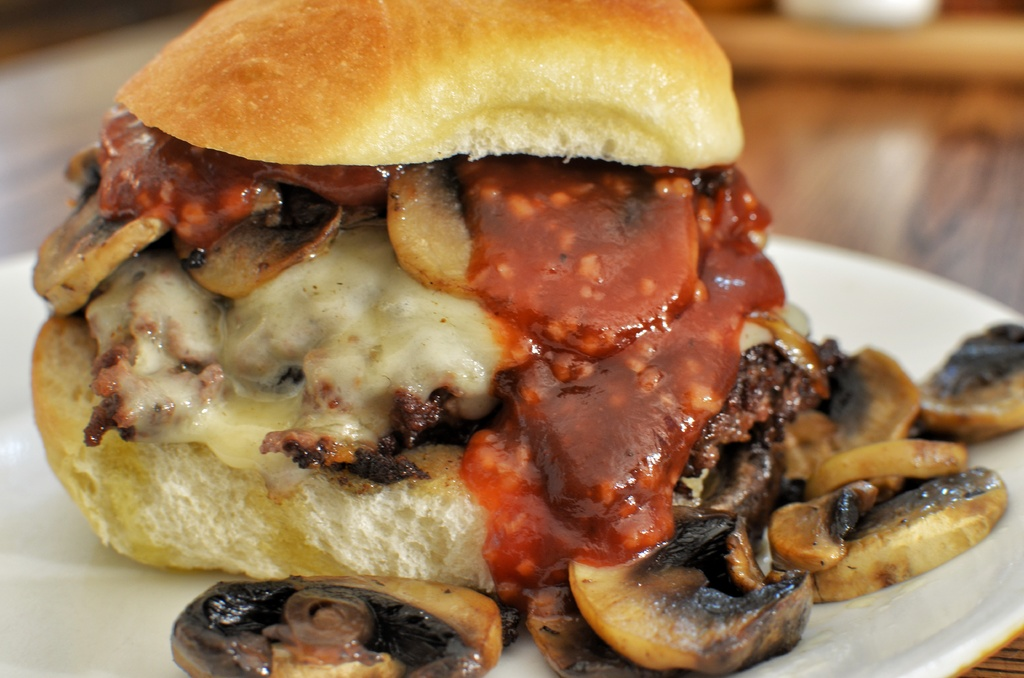Hamburger: (24, 0, 812, 590)
